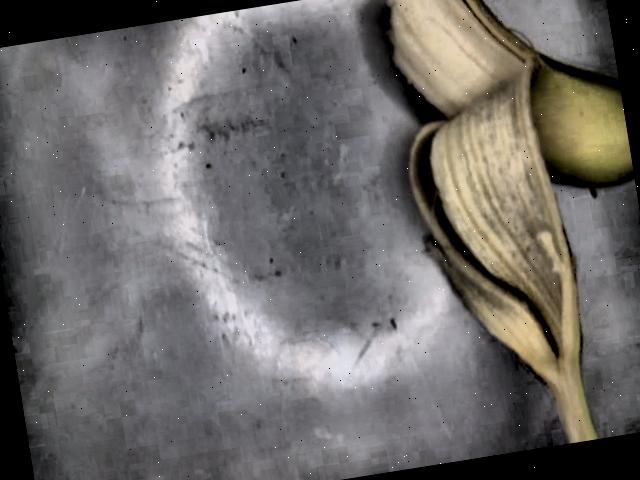Almennt: (369, 0, 628, 444)
